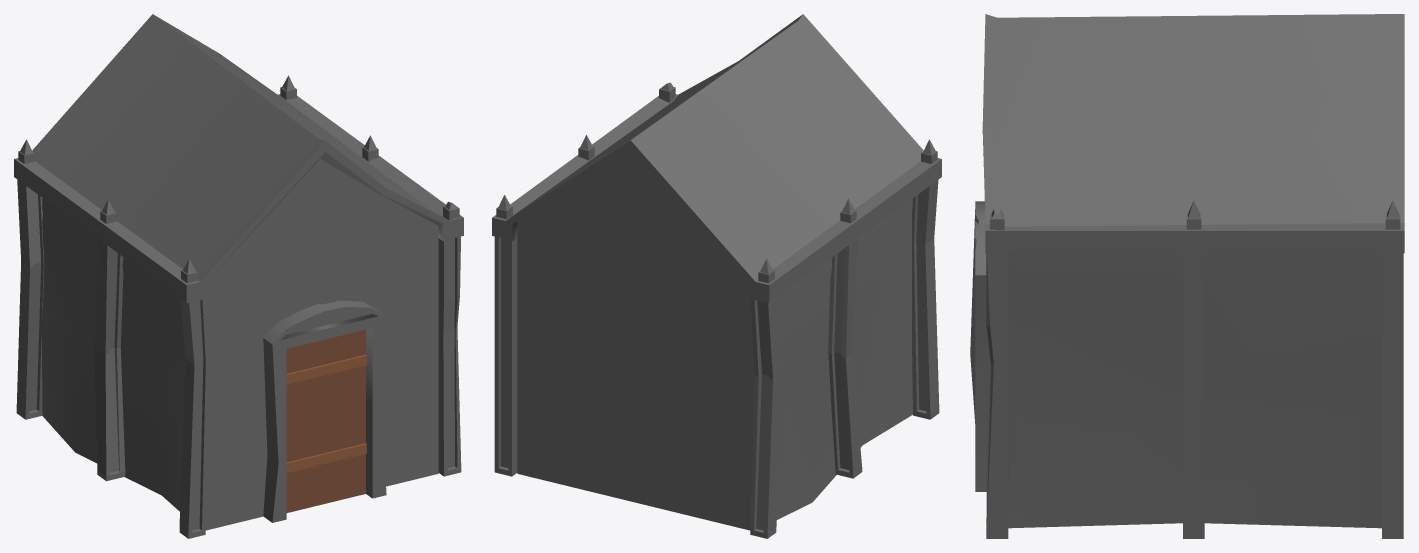
Rendered from Cripta1.fbx.
3 views of the same model, side by side, from view 1: azimuth 30°, elevation 25°; view 2: azimuth 150°, elevation 25°; view 3: azimuth 270°, elevation 25° (orthographic). The views are drawn at different scales.
Parts seen in each view (by area): view 1: Cripta1.001; view 2: Cripta1.001; view 3: Cripta1.001.
Part boxes in pixels (x1,y1,x2,y2): Cripta1.001: (14, 14, 463, 538); Cripta1.001: (492, 14, 941, 538); Cripta1.001: (970, 14, 1404, 538).
Bounding box in the file's own units: 3.99 × 3.58 × 4.55.
